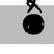not correct: (18, 0, 47, 36)
